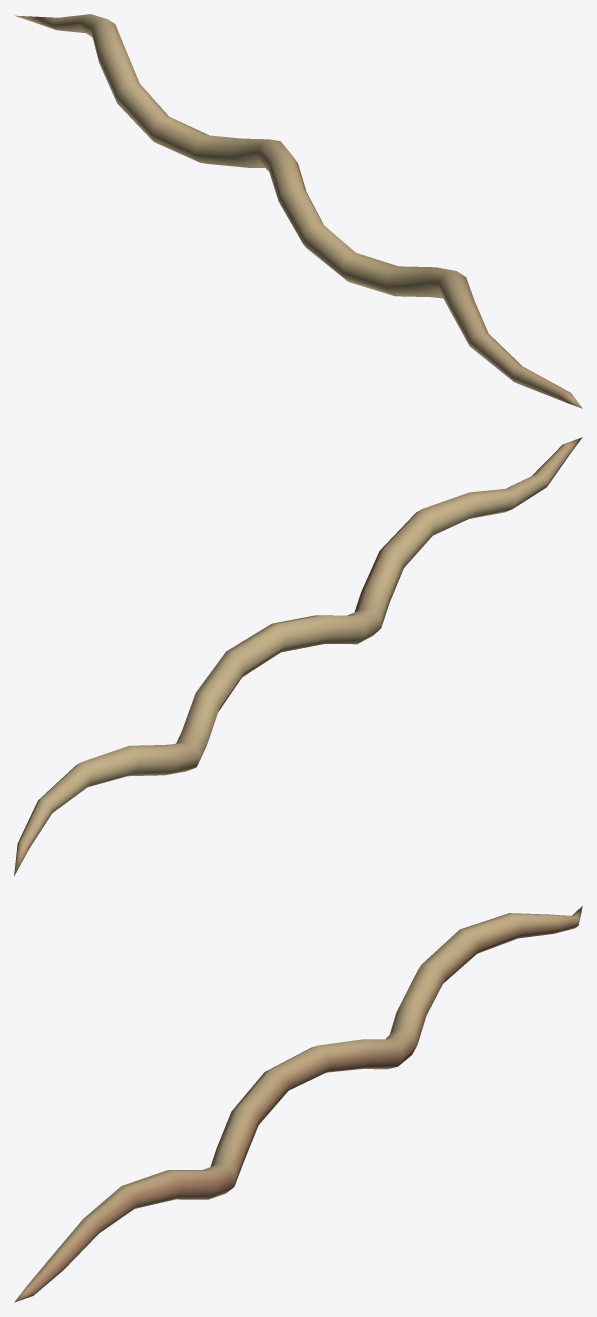
Rendered from microscopic-bacteria-spiral-bacterium_v1.glb.
The picture shows the model from 3 angles, top to bottom: view 1: azimuth 30°, elevation 25°; view 2: azimuth 150°, elevation 25°; view 3: azimuth 330°, elevation 25°; orthographic projection.
Parts seen in each view (by area): view 1: Spiral Bacterium_v1; view 2: Spiral Bacterium_v1; view 3: Spiral Bacterium_v1.
Part boxes in pixels (left/top/right/bottom): Spiral Bacterium_v1: left=15, top=14, right=582, bottom=408; Spiral Bacterium_v1: left=14, top=437, right=582, bottom=876; Spiral Bacterium_v1: left=14, top=905, right=582, bottom=1302.
Bounding box in the file's own units: 0.00665 × 0.00668 × 0.1.
